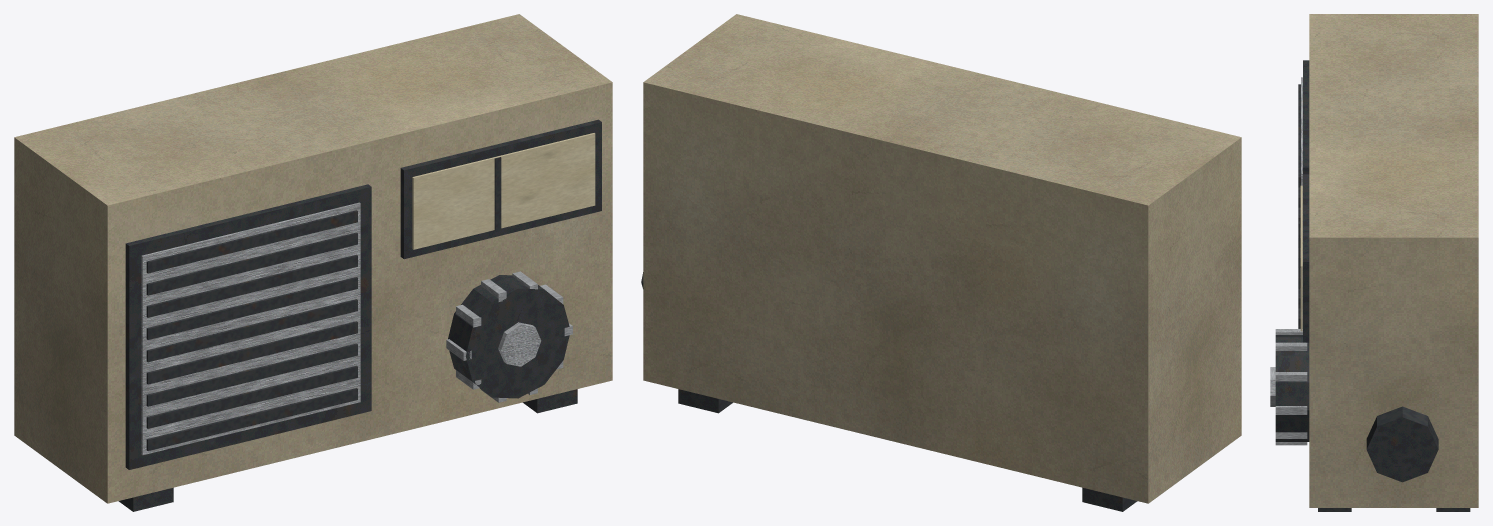
File: radio.glb
3 views of the same model, side by side, from view 1: azimuth 30°, elevation 25°; view 2: azimuth 150°, elevation 25°; view 3: azimuth 270°, elevation 25° (orthographic). The views are drawn at different scales.
Parts seen in each view (by area): view 1: radio, Dial; view 2: radio; view 3: radio, Dial.
Boxes of the visible parts, x1,y1,x2,y2 form: radio: (14, 14, 612, 511); Dial: (446, 271, 572, 402); radio: (641, 14, 1241, 511); radio: (1298, 14, 1478, 511); Dial: (1270, 329, 1309, 445).
Size of the model in its own units: 0.262 by 0.15 by 0.0985.
5 materials, 5 textured.
